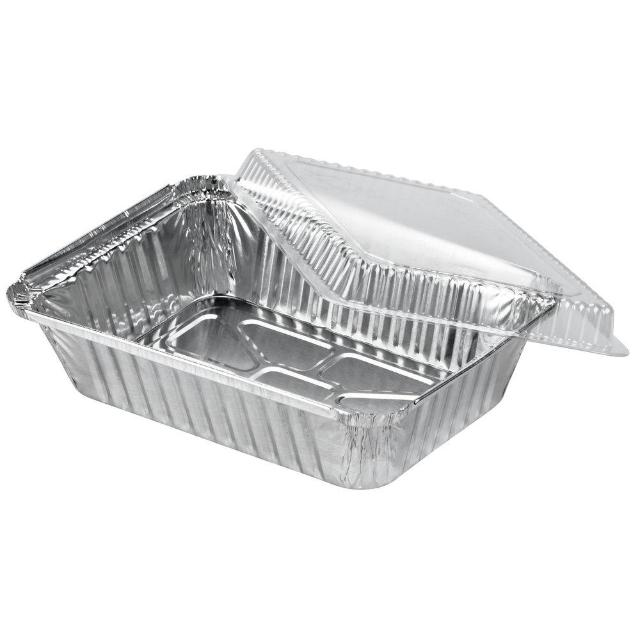plastic_box: (6, 145, 626, 487)
